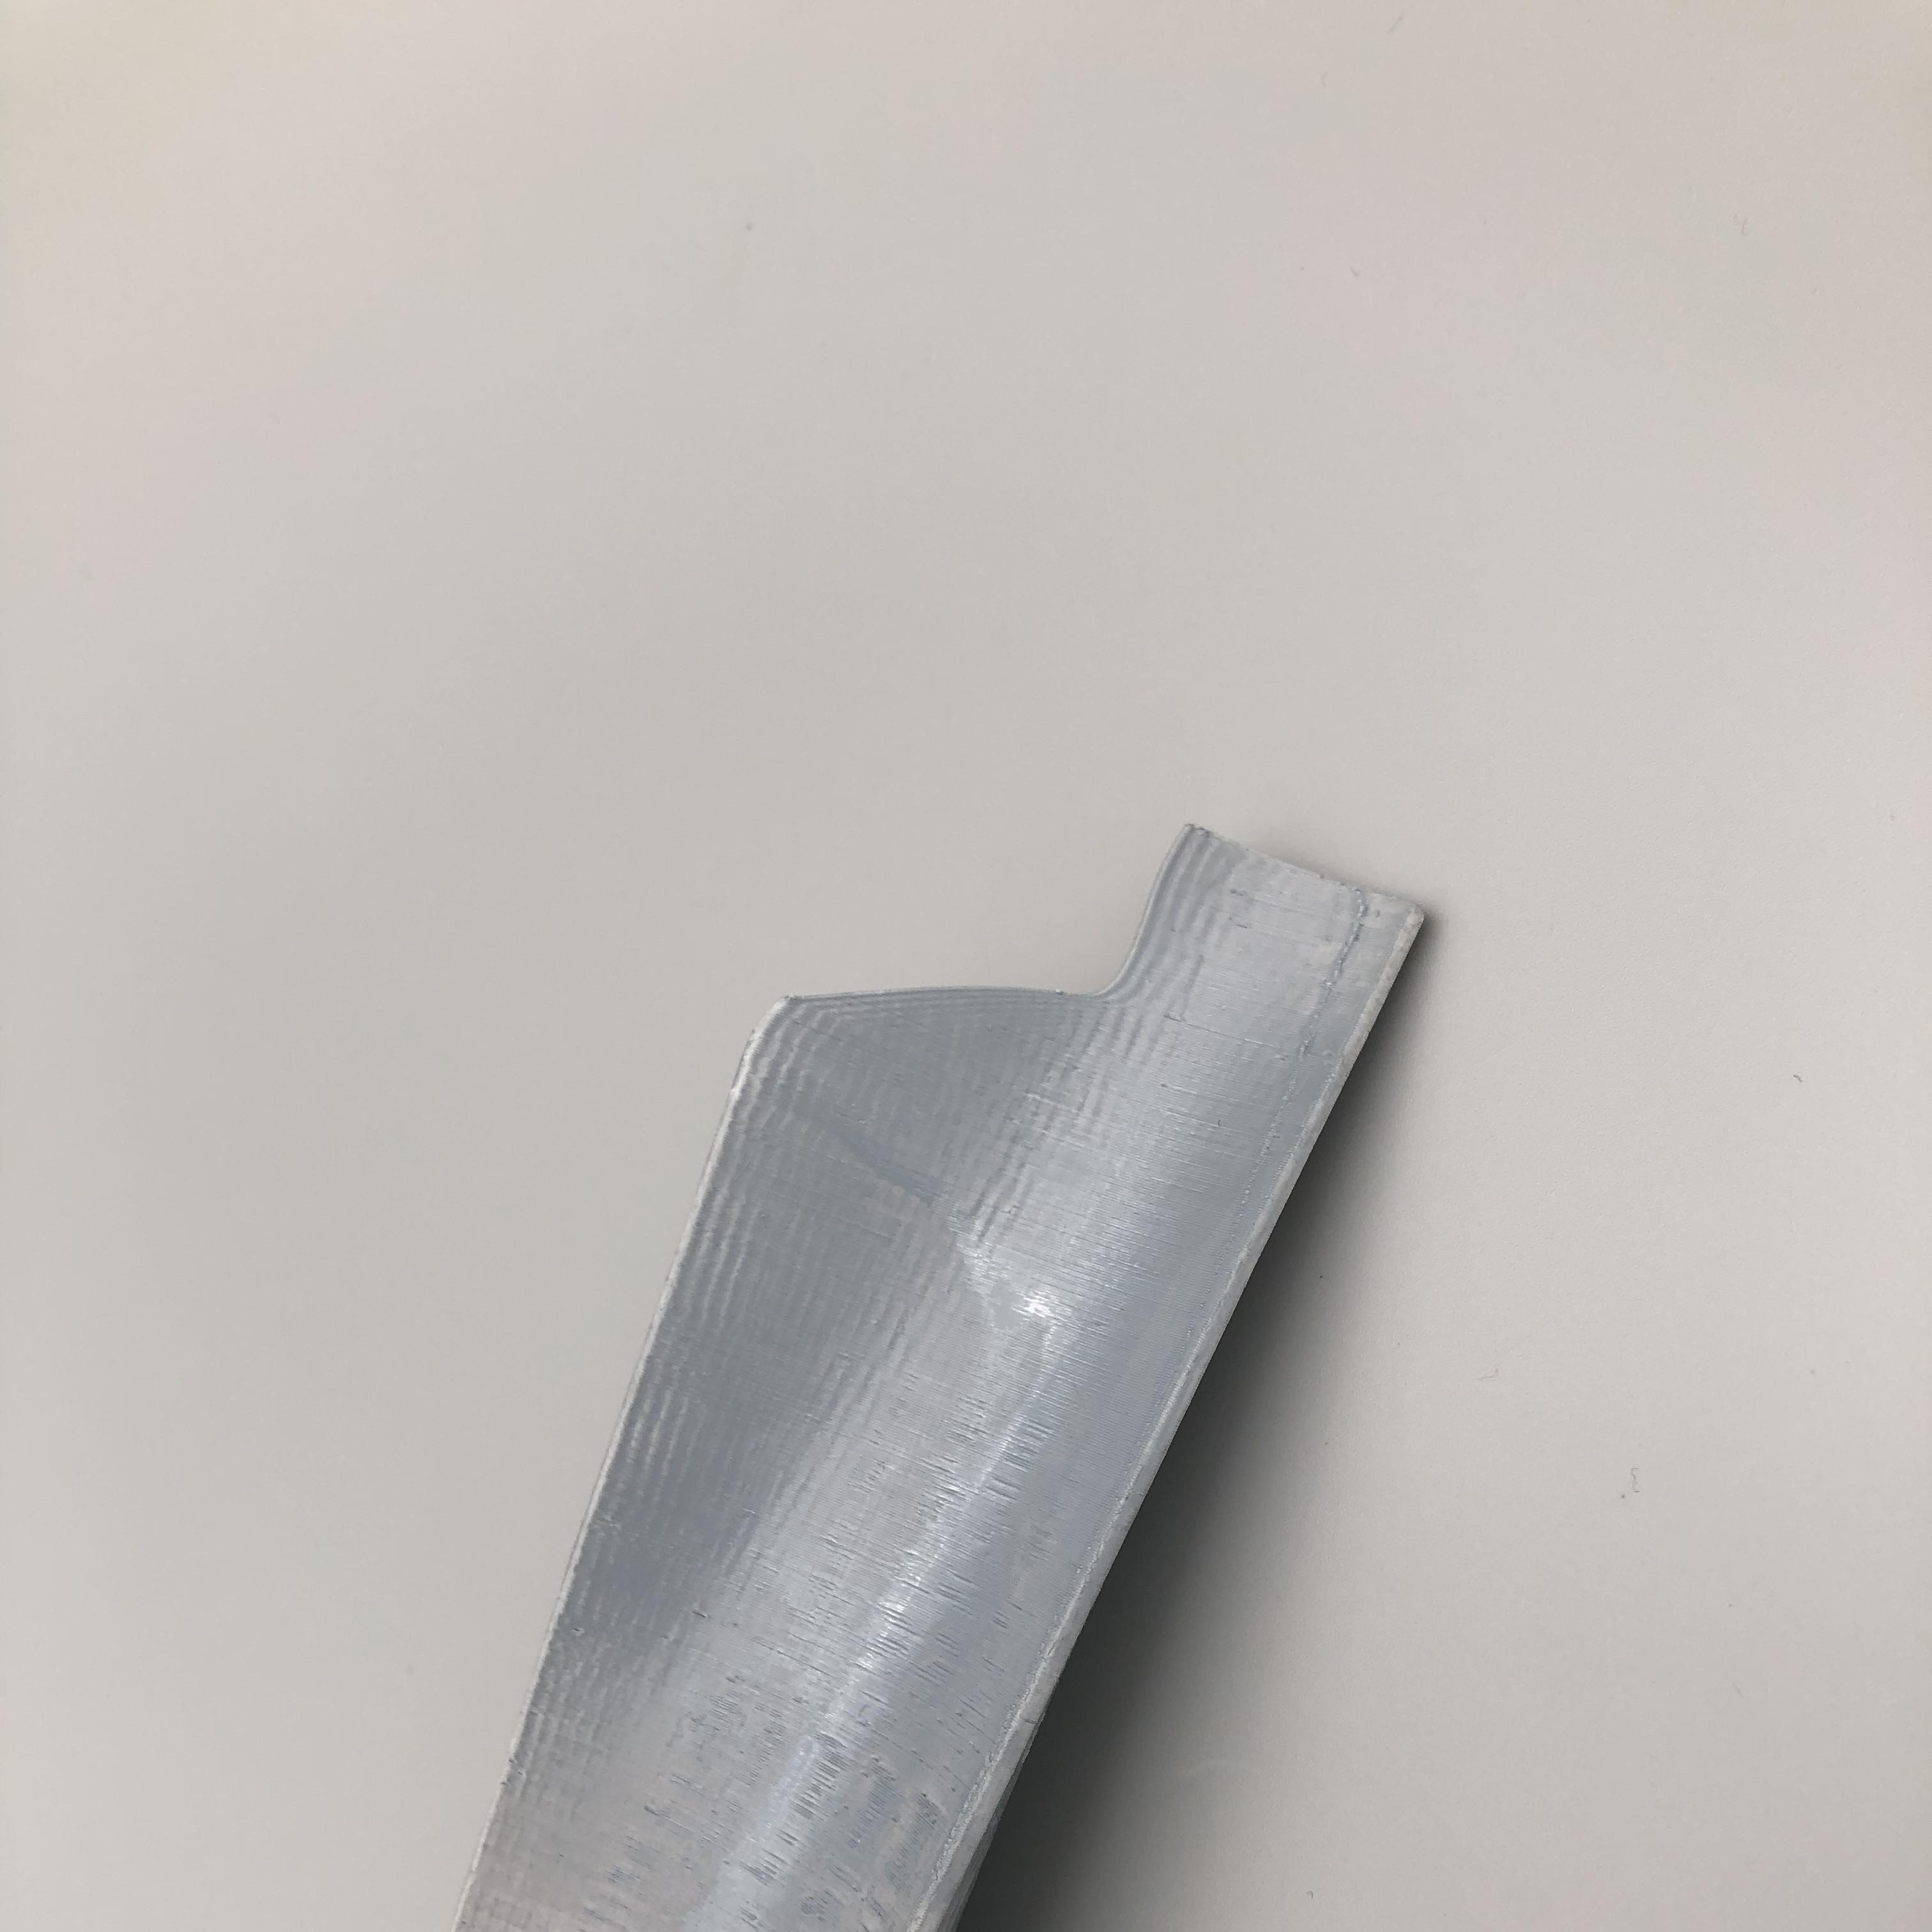fracture: (833, 863, 1208, 1051)
